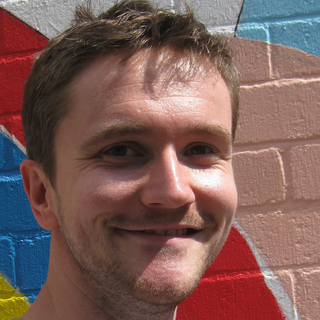eye: (82, 134, 157, 169), (175, 132, 232, 172)
